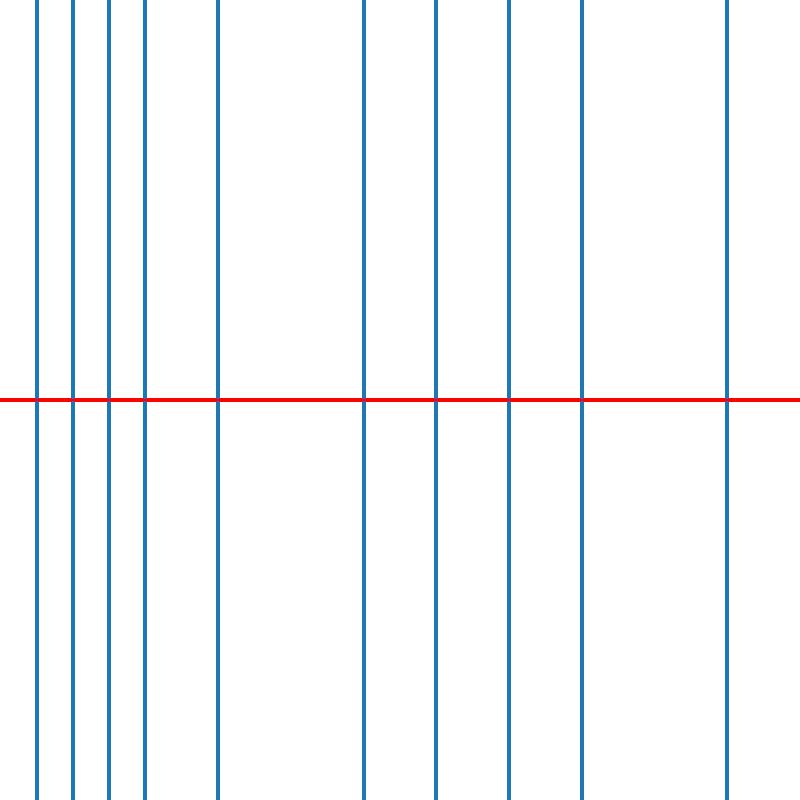root: (432, 396, 440, 404), (141, 396, 149, 404), (32, 396, 40, 404), (578, 396, 585, 404), (723, 396, 730, 404), (505, 396, 512, 404), (360, 396, 367, 404), (105, 396, 112, 404), (69, 396, 76, 404), (214, 396, 221, 404)
